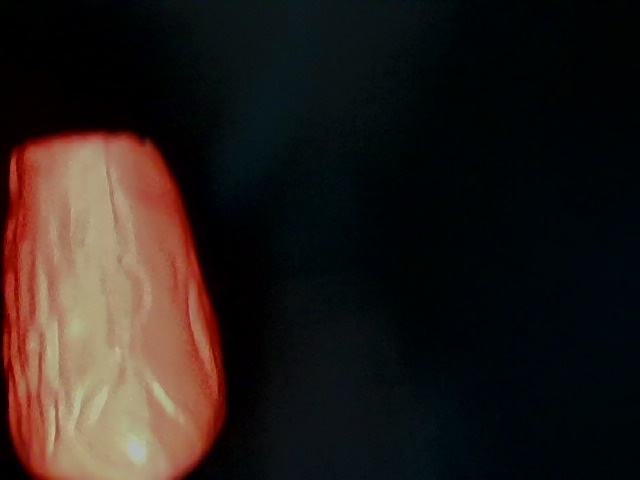YHLJ: (518, 308, 614, 400)
